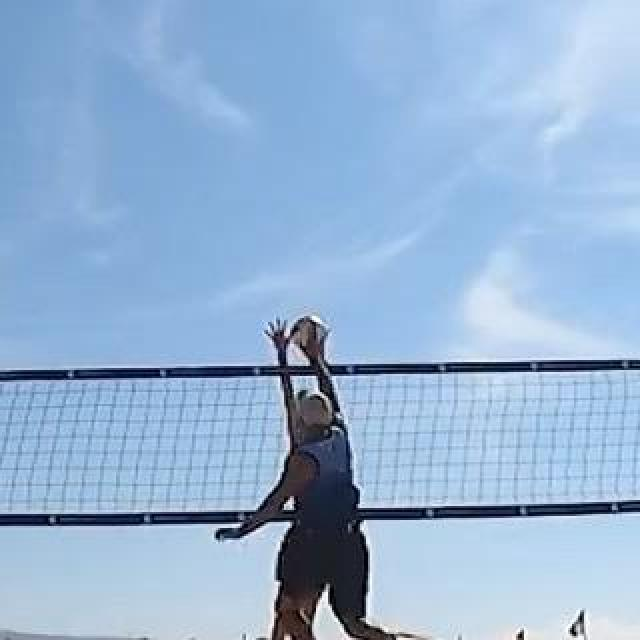volleyball: (292, 316, 328, 358)
